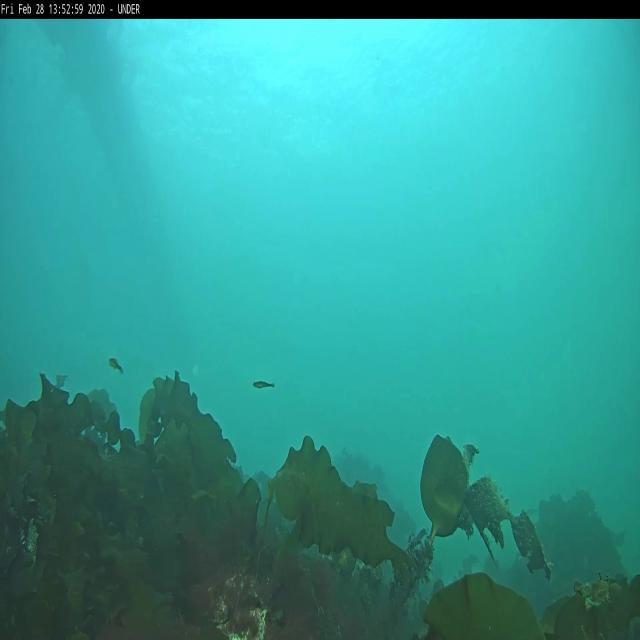fish: (108, 358, 124, 373), (253, 381, 273, 388)
